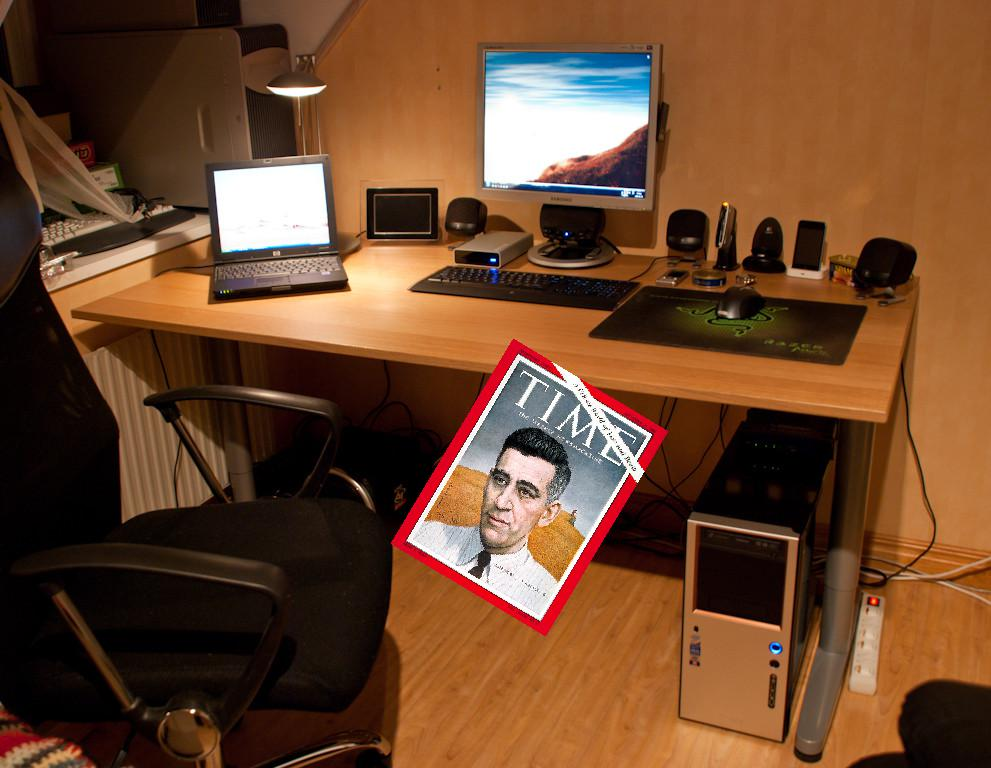times: (390, 338, 673, 636)
